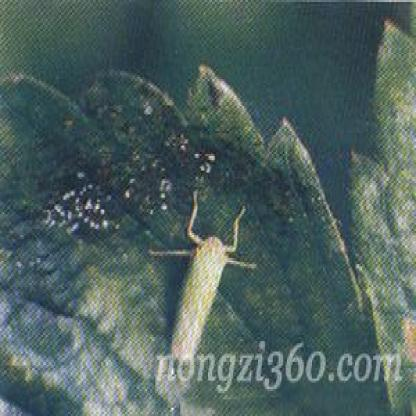Green-Leafhopper: (152, 192, 259, 364)
